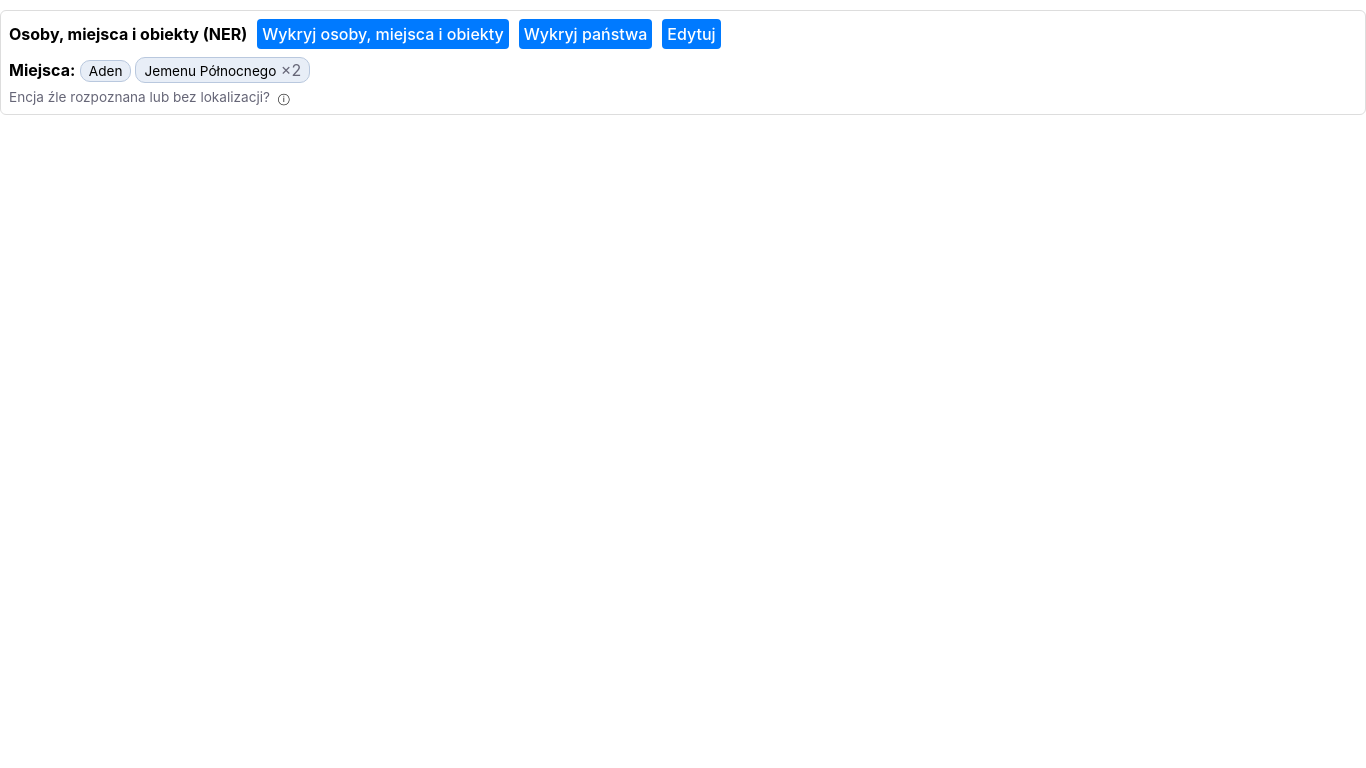
Test: renames a place without edit mode and refetches entities
Click the button "Jemenu Północnego" at [210, 71], box x1=144 y1=63 x2=276 y2=79
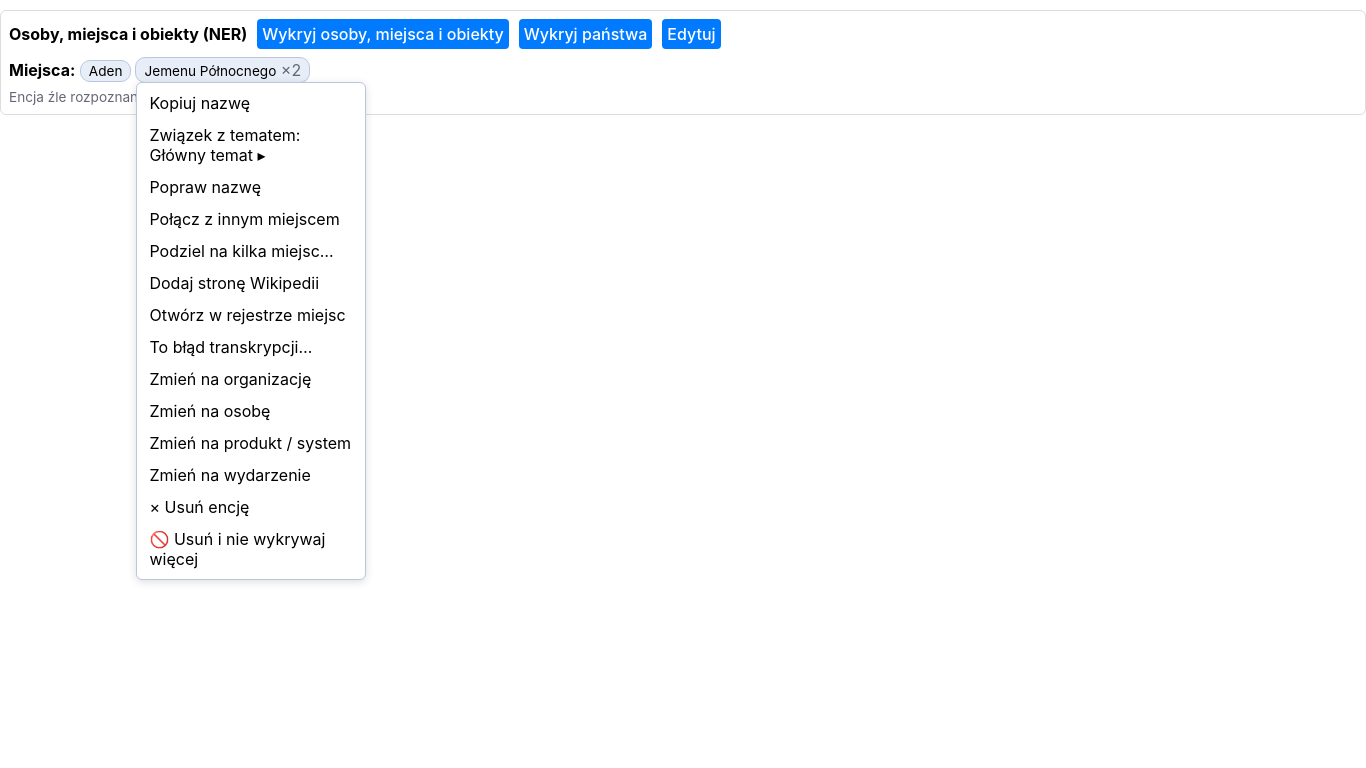
Result: the number of menu items is 14
Click the menu item "Popraw nazwę" at [252, 187], box x1=142 y1=171 x2=362 y2=203
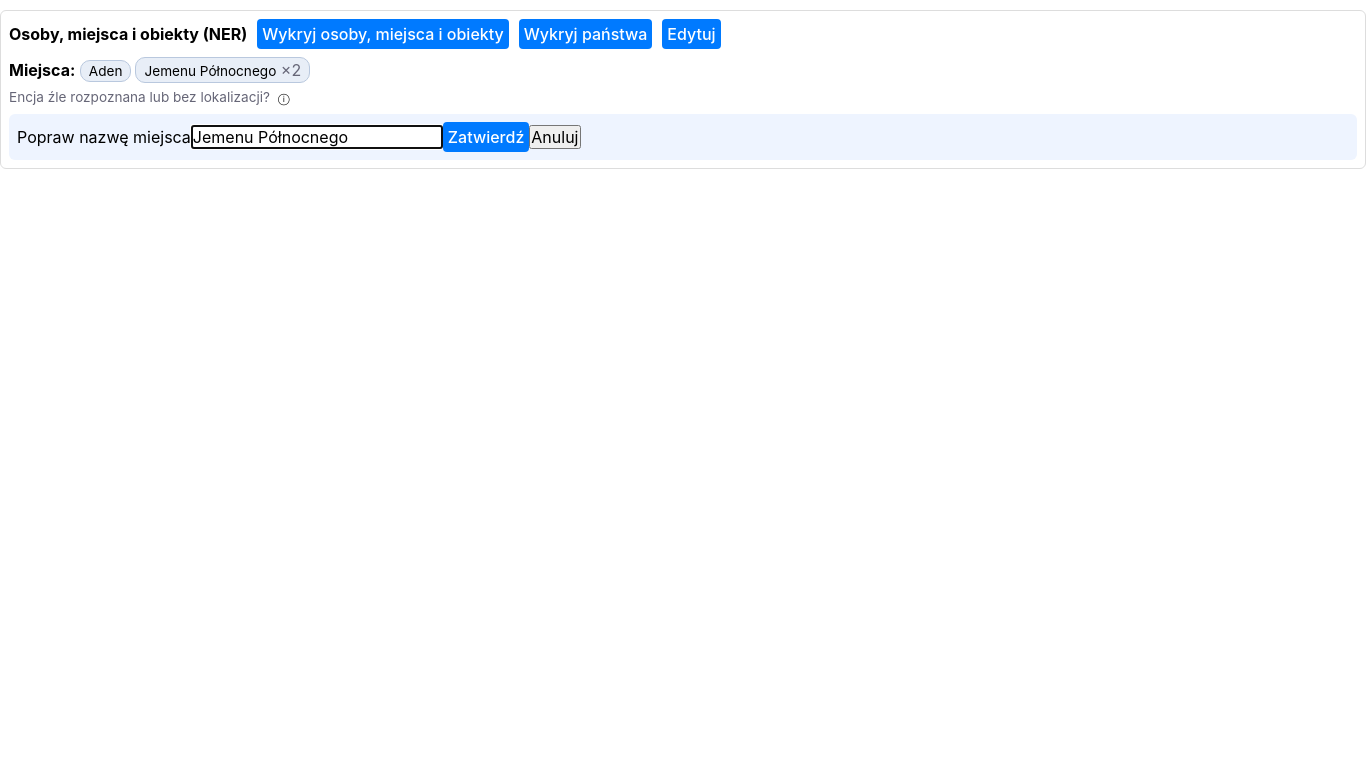
Result: the field labelled "Popraw nazwę miejsca" holds "Jemenu Północnego"
Replace the text in the field labelled "Popraw nazwę miejsca" with " Jemen Północny " at [317, 137], box x1=191 y1=125 x2=443 y2=149
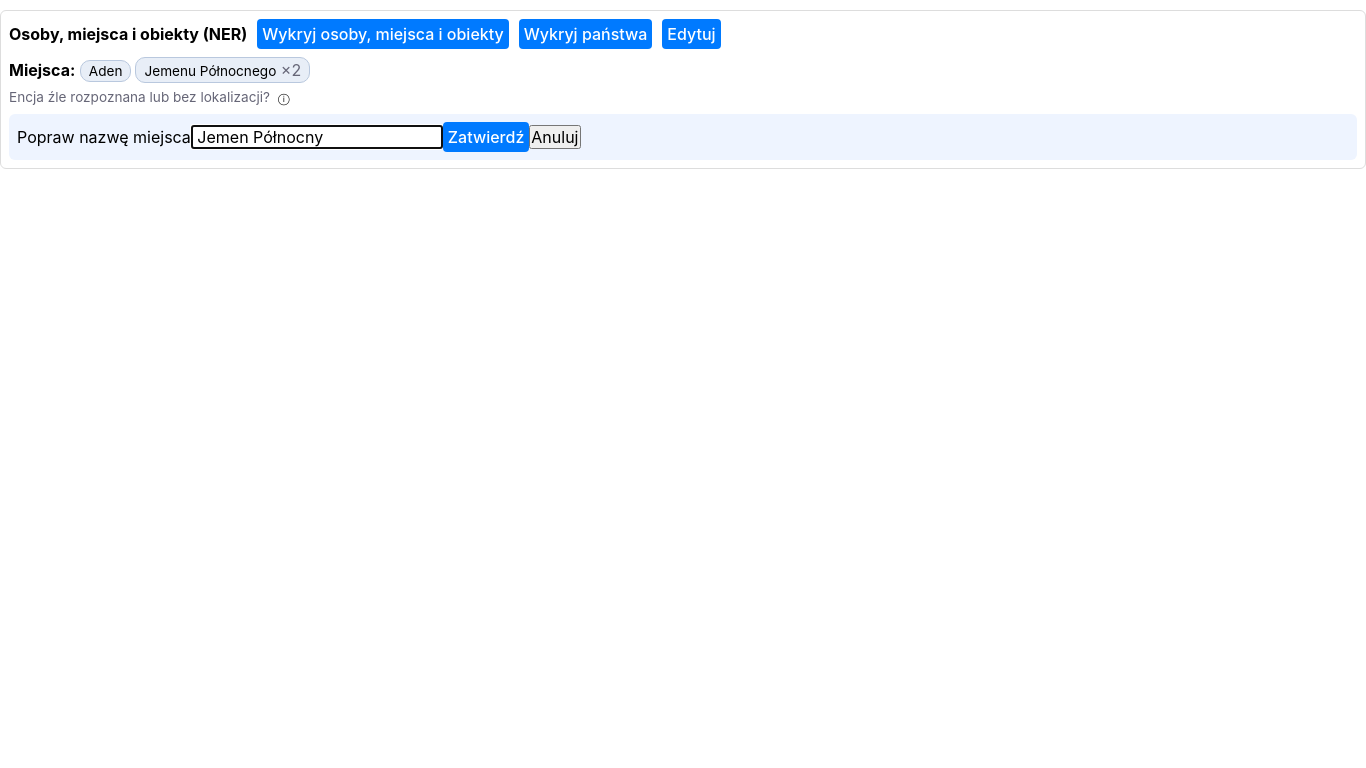
Click the button "Zatwierdź" at [486, 137], box x1=443 y1=122 x2=529 y2=152
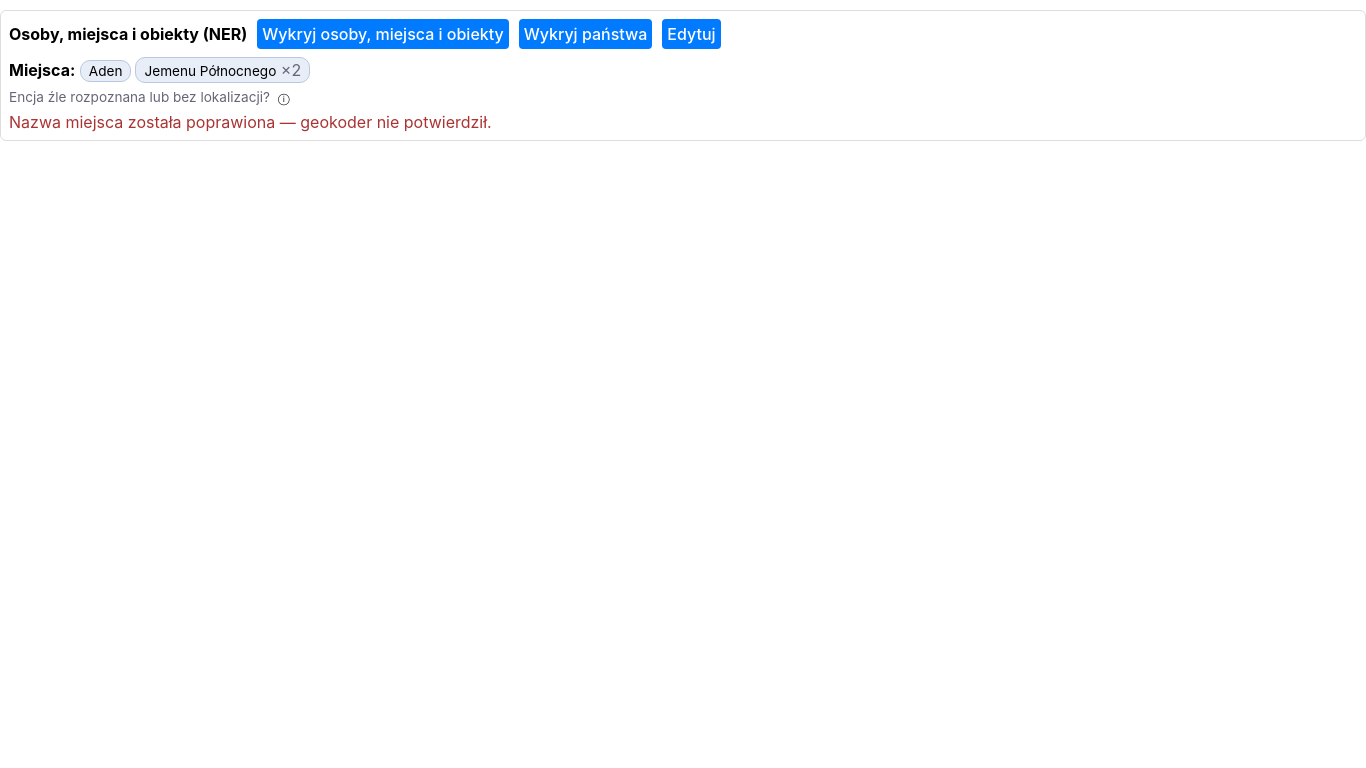
Result: the text "Nazwa miejsca została poprawiona — geokoder nie potwierdził." is shown at x1=9 y1=112 x2=492 y2=132
